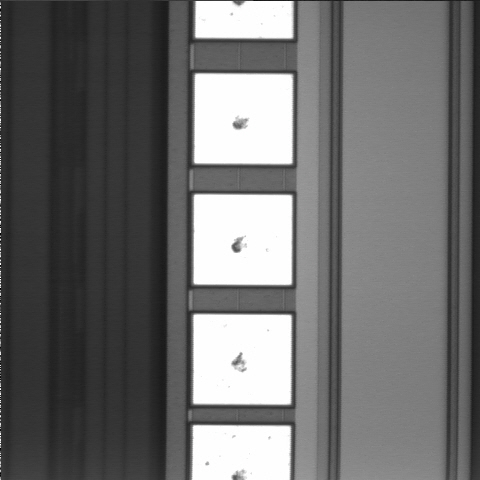pad: (194, 194, 292, 285), (193, 314, 291, 405), (194, 74, 293, 164)
